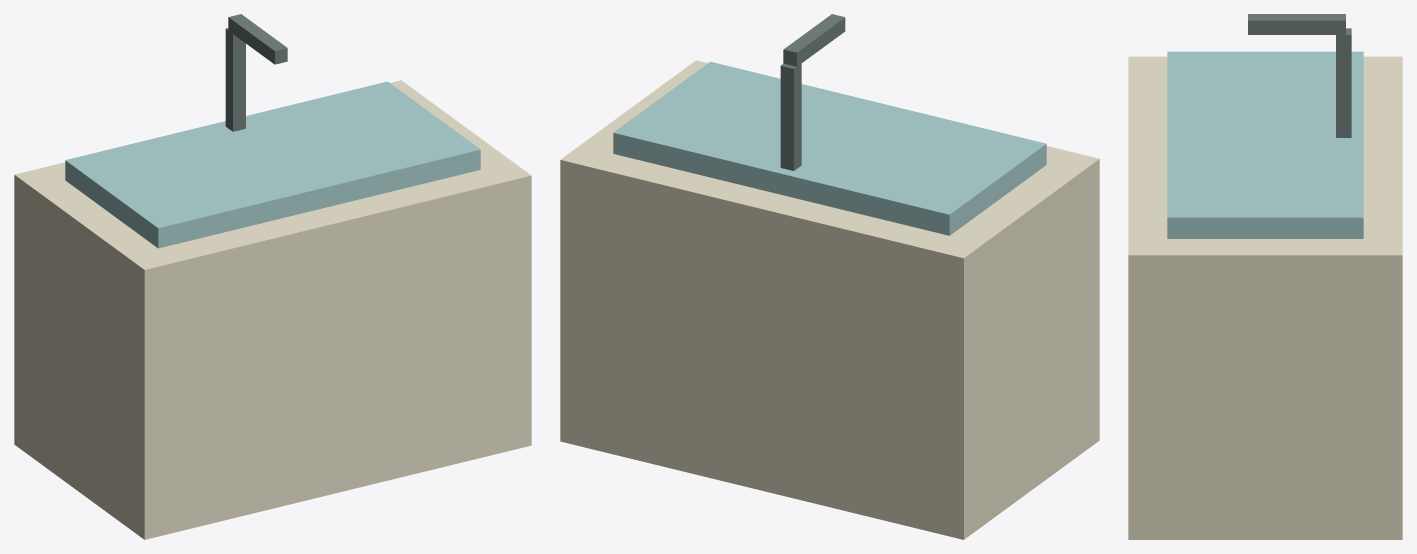
File: cozy-farm-and-homestead-farmhouse-sink-aa9c490b__19419.glb
3 renders of one model, left to right at view 1: azimuth 30°, elevation 25°; view 2: azimuth 150°, elevation 25°; view 3: azimuth 270°, elevation 25°, orthographic. The views are drawn at different scales.
Parts seen in each view (by area): view 1: farmhouse-sink; view 2: farmhouse-sink; view 3: farmhouse-sink.
Boxes of the visible parts, bbox=[...] form: farmhouse-sink: bbox=[14, 14, 531, 539]; farmhouse-sink: bbox=[560, 14, 1099, 539]; farmhouse-sink: bbox=[1128, 14, 1402, 539].
Size of the model in its own units: 1.2 by 1.19 by 0.7.
